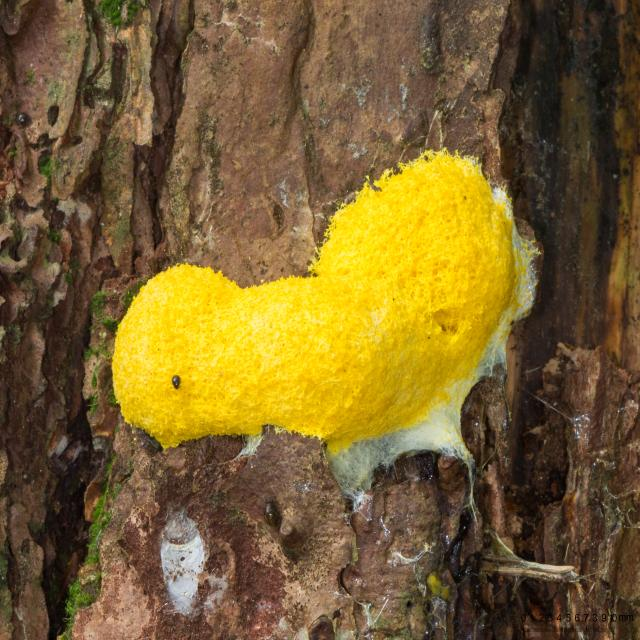Dog_vomit_slime_mold: (120, 142, 567, 484)
